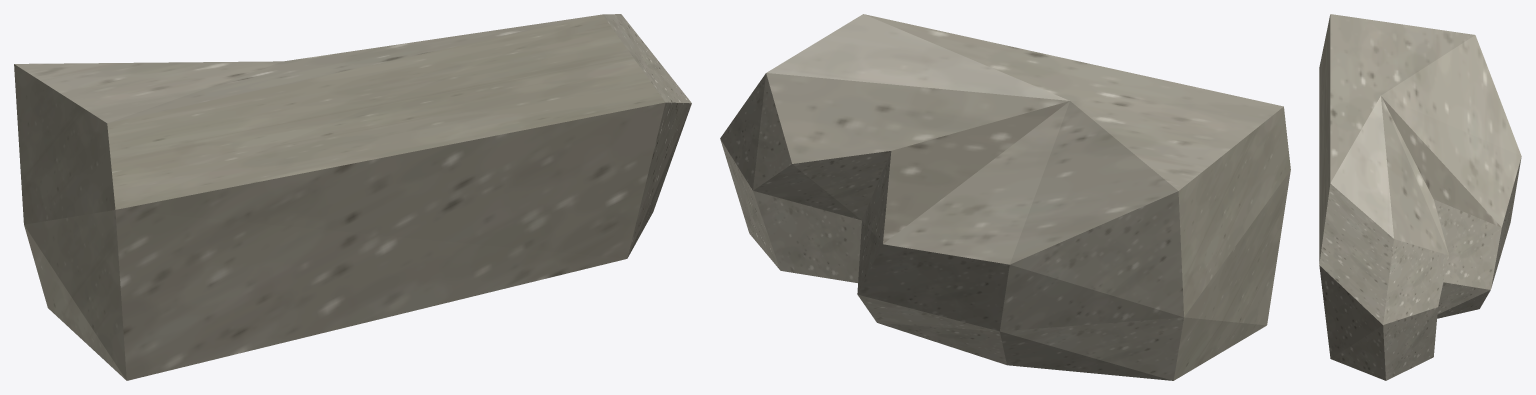
File: debris_concrete_curb.glb
3 renders of one model, left to right at view 1: azimuth 30°, elevation 25°; view 2: azimuth 150°, elevation 25°; view 3: azimuth 270°, elevation 25°, orthographic. The views are drawn at different scales.
Parts seen in each view (by area): view 1: Concrete Curb Fragment; view 2: Concrete Curb Fragment; view 3: Concrete Curb Fragment.
Part boxes in pixels (x1,y1,x2,y2): Concrete Curb Fragment: [14, 14, 691, 380]; Concrete Curb Fragment: [720, 14, 1290, 380]; Concrete Curb Fragment: [1319, 14, 1521, 380].
Size of the model in its own units: 0.219 by 0.088 by 0.092.
Materials: 1 (1 with a texture image).
